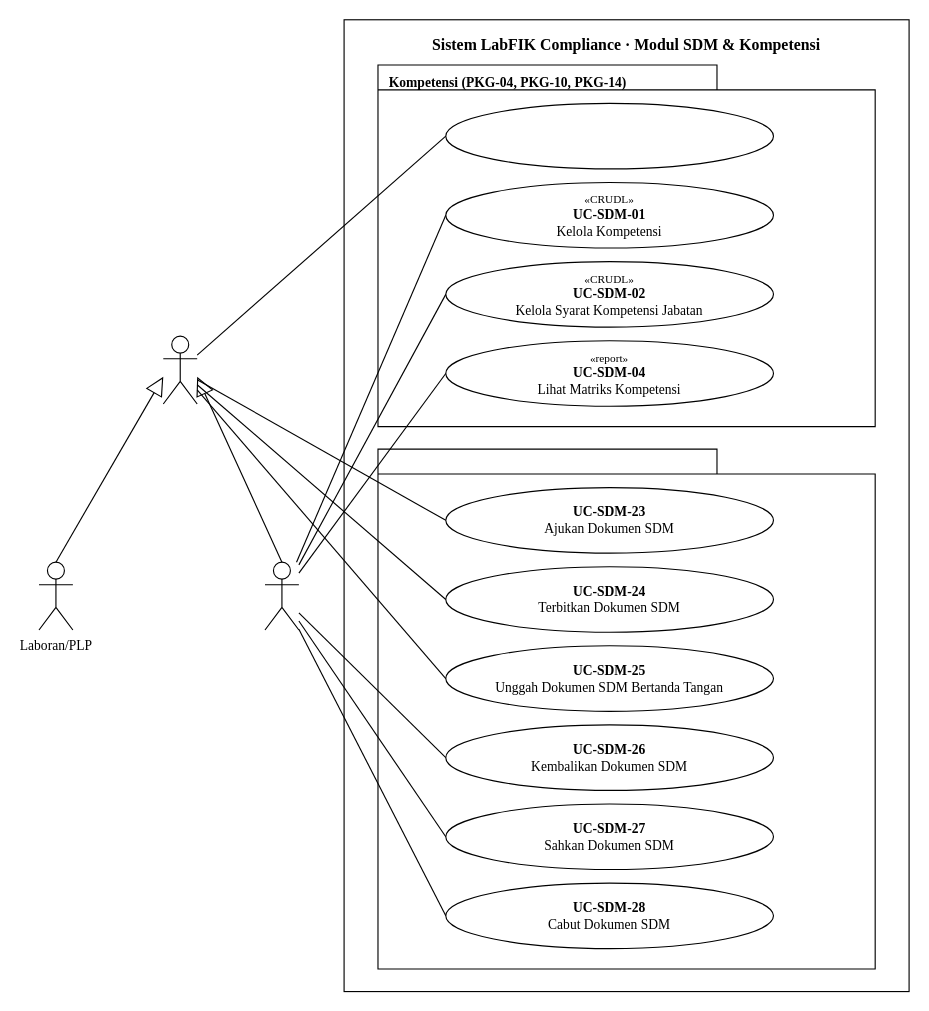
The diagram is 929 pixels wide and 1011 high, and some of its shapes have lost their labels. The box of each missing label's shape, as (x1, y1, x2, y2) in pixels:
KaLab: (264, 561, 299, 630)
Pengelola Lab: (162, 335, 197, 404)
Pengesahan Dokumen SDM: (377, 448, 875, 969)
«CRUDL» UC-SDM-03 Kelola Bukti Kompetensi: (445, 102, 773, 169)
